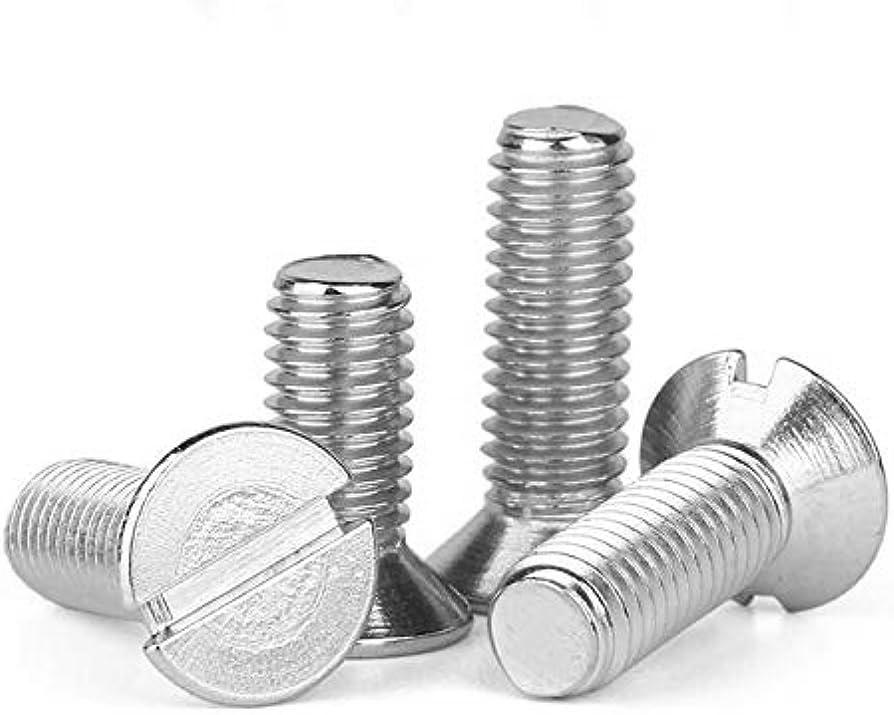screw: (127, 417, 379, 706)
